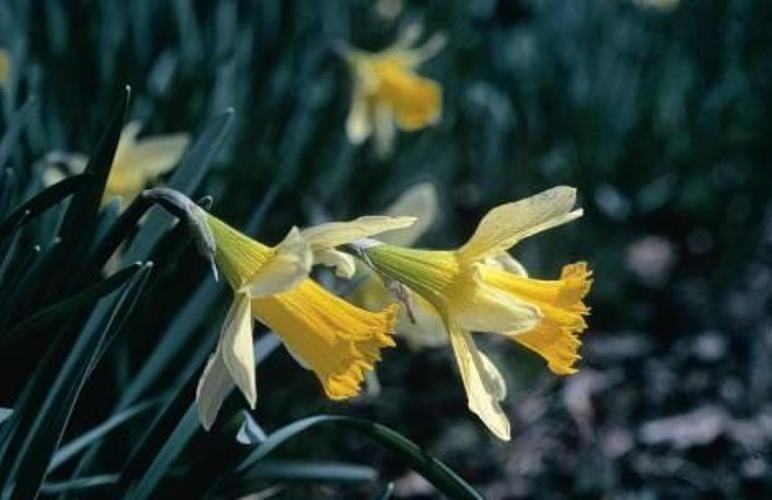flower1: (334, 182, 596, 441), (193, 210, 417, 433)
